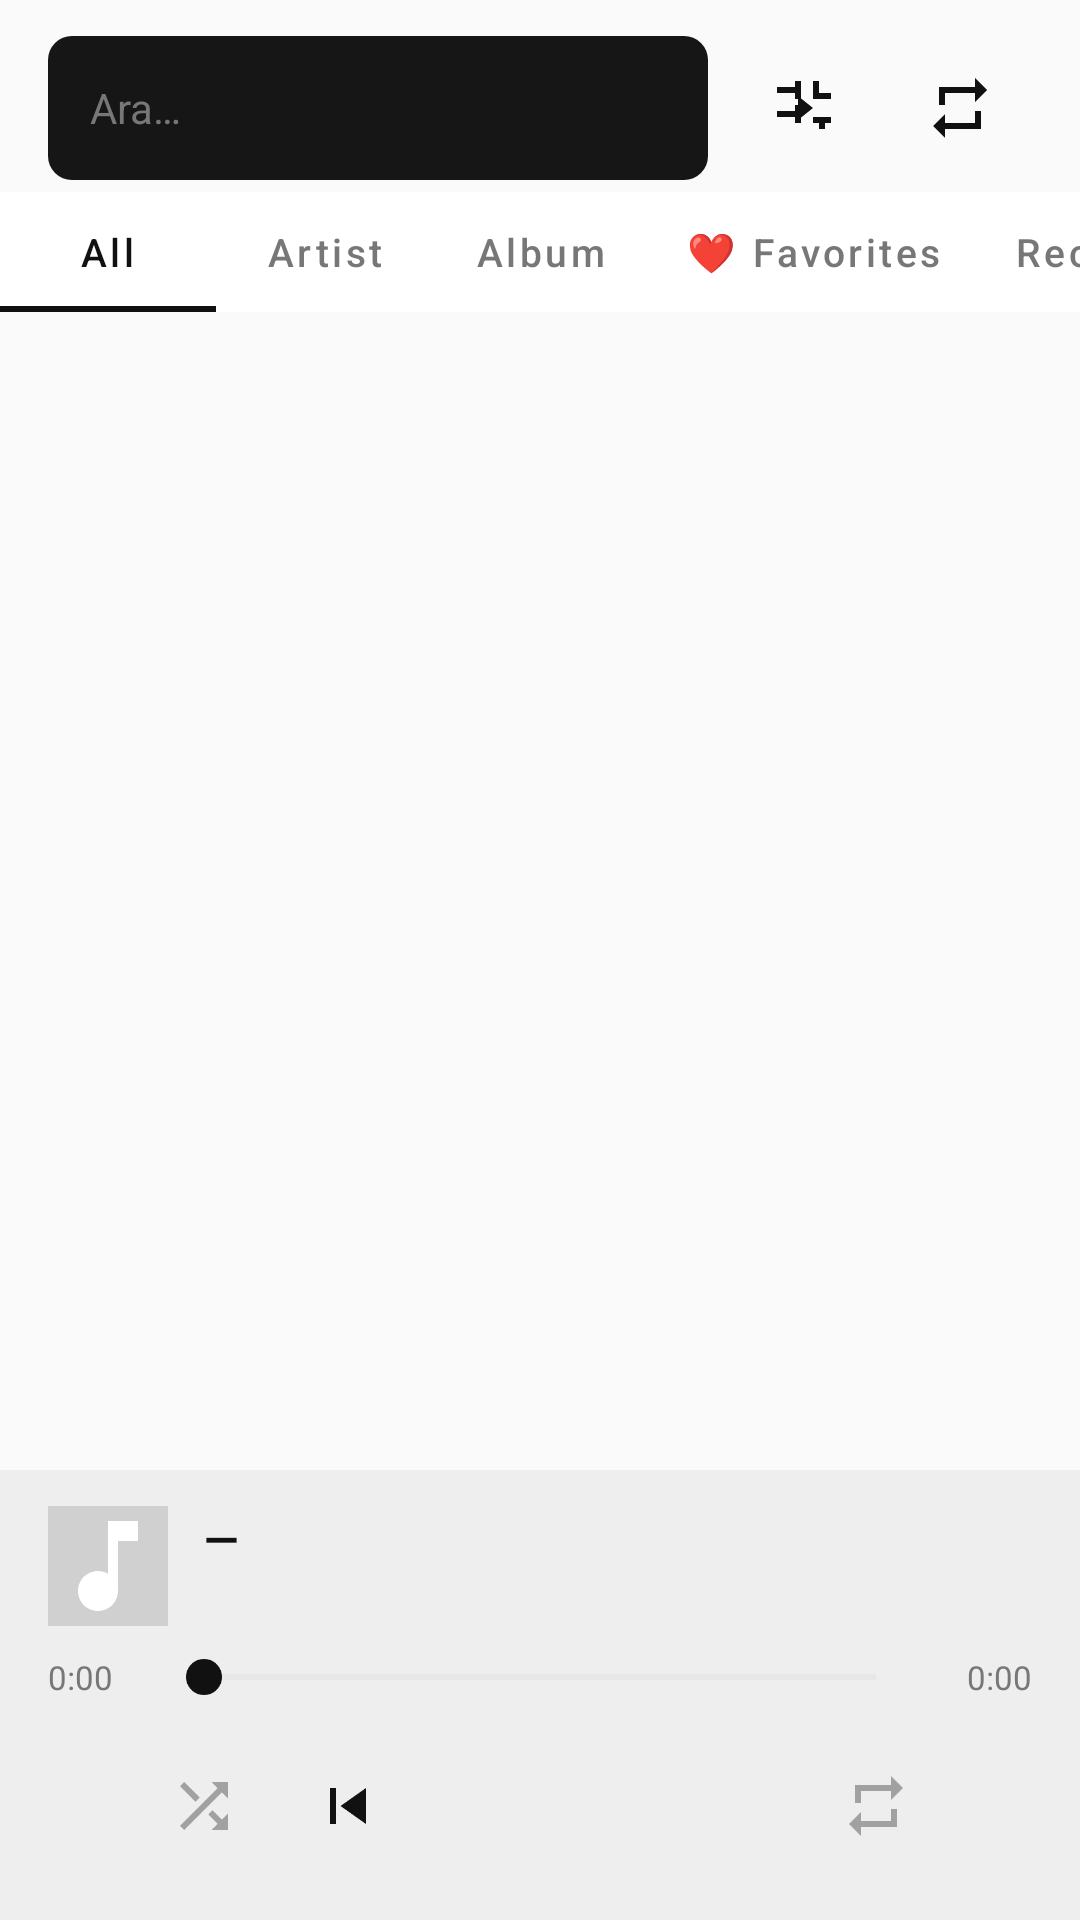

Icons on this 1080*1920 Android screen, each with the point to tap as (x=x, y=y):
note: (x=108, y=1566)
prev: (x=348, y=1806)
repeat: (x=876, y=1806)
shuffle: (x=204, y=1806)
